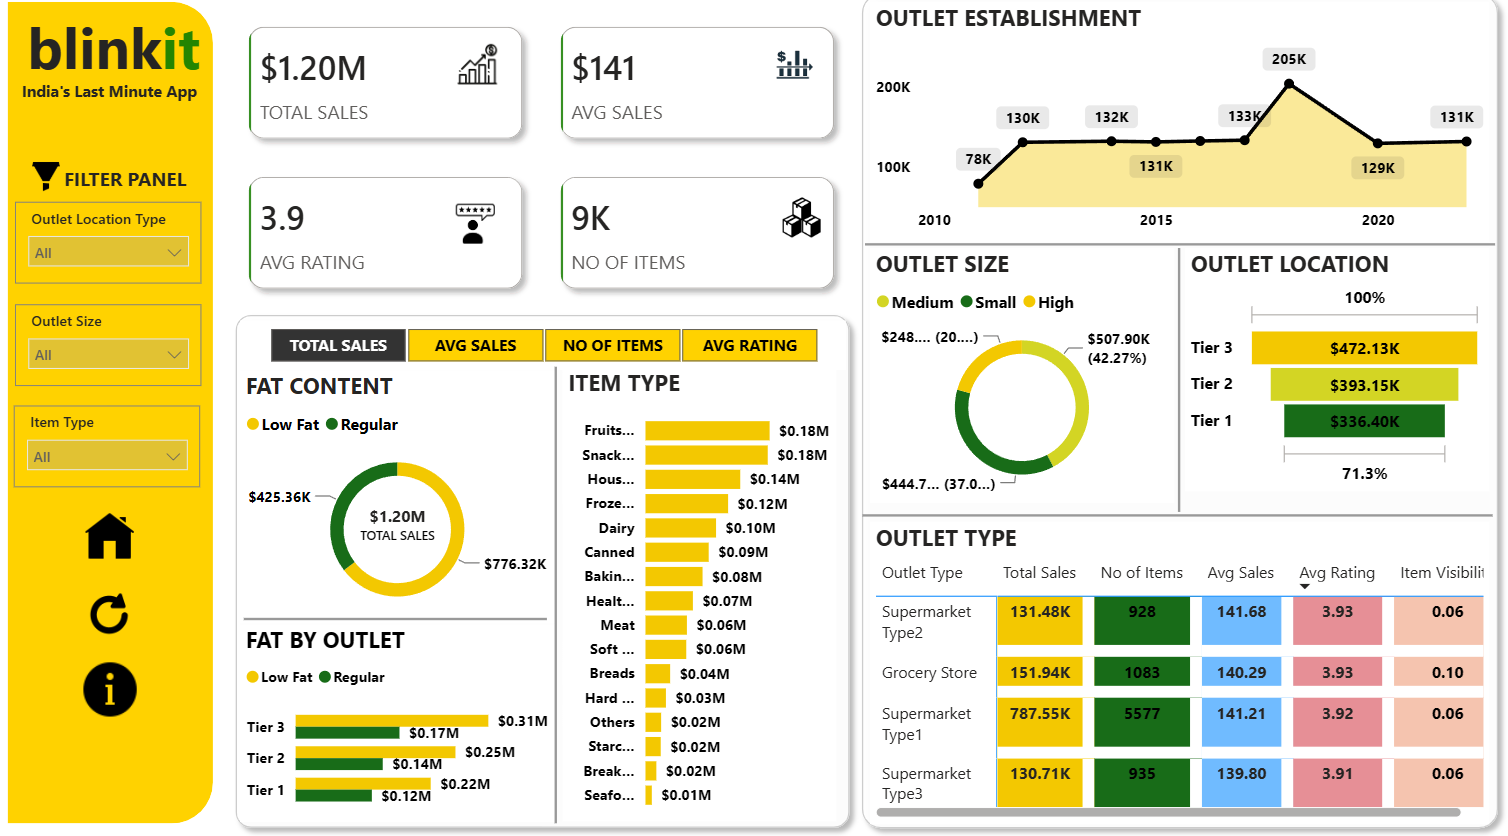

Layout of this report page (visuals, bound fields, positions):
{"tool":"powerbi","page":{"name":"Page 1","canvas":[1280,720],"ordinal":0},"visuals":[{"type":"shape","box":[10.1,15.8,172.8,691.2],"z":0},{"type":"textbox","box":[15.8,15.8,168.5,77.8],"z":1000},{"type":"textbox","box":[8.6,76.3,175.7,33.1],"z":2000},{"type":"shape","box":[193,270.7,534.2,449.3],"z":3000},{"type":"slicer","fields":{"Values":["Matrix.Matrix"]},"box":[205.9,283.7,509.8,41.8],"z":4000},{"type":"donutChart","title":"FAT CONTENT","fields":{"Y":["Table1.TOTAL SALES"],"Category":["Table1.Item Fat Content"]},"box":[205.9,325.4,265,213.1],"z":5000},{"type":"clusteredBarChart","title":"ITEM TYPE","fields":{"Y":["Table1.TOTAL SALES"],"Category":["Table1.Item Type"]},"box":[477,323,230,382],"z":6000},{"type":"clusteredBarChart","title":"FAT BY OUTLET","fields":{"Y":["Table1.TOTAL SALES"],"Series":["Table1.Item Fat Content"],"Category":["Table1.Outlet Location Type"]},"box":[206,539,265,166],"z":7000},{"type":"cardVisual","fields":{"Data":["Table1.TOTAL SALES"]},"box":[298.1,432,80.6,46.1],"z":8000},{"type":"shape","box":[720,0,553,720],"z":9000},{"type":"lineChart","title":"OUTLET ESTABLISHMENT","fields":{"Category":["Table1.Outlet Establishment Year"],"Y":["Sum(Table1.Sales)"]},"box":[736,16,521,202],"z":10000},{"type":"donutChart","title":"OUTLET SIZE","fields":{"Y":["Table1.TOTAL SALES"],"Category":["Table1.Outlet Size"]},"box":[736,223,256,214],"z":11000},{"type":"funnel","title":"OUTLET LOCATION","fields":{"Y":["Table1.TOTAL SALES"],"Category":["Table1.Outlet Location Type"]},"box":[1001,223,256,205],"z":12000},{"type":"pivotTable","title":"OUTLET TYPE","fields":{"Rows":["Table1.Outlet Type"],"Values":["Sum(Table1.Sales)","CountNonNull(Table1.Item Identifier)","Avg(Table1.Sales)","Avg(Table1.Rating)","Avg(Table1.Item Visibility)"]},"box":[736,453,521,254],"z":13000},{"type":"shape","box":[732,211,530,17],"z":14000},{"type":"shape","box":[730,440,530,16.7],"z":15000},{"type":"shape","box":[209,531,255,8],"z":16000},{"type":"shape","box":[464,323,16,384],"z":17000},{"type":"shape","box":[991,223,9,222],"z":18000},{"type":"slicer","fields":{"Values":["Table1.Outlet Location Type"]},"box":[17.3,184.3,157,69.1],"z":19000},{"type":"slicer","fields":{"Values":["Table1.Outlet Size"]},"box":[17.3,270.7,157,69.1],"z":20000},{"type":"slicer","fields":{"Values":["Table1.Item Type"]},"box":[15.8,355.7,157,69.1],"z":21000},{"type":"textbox","box":[45.8,148.3,126.7,31.7],"z":22000},{"type":"image","box":[21.7,142.5,41.7,39.2],"z":23000},{"type":"image","box":[70.6,439.2,51.8,53.3],"z":24000},{"type":"image","box":[64.8,502.6,61.9,57.6],"z":25000},{"type":"image","box":[64.8,564.5,63.4,59],"z":26000},{"type":"cardVisual","fields":{"Data":["Table1.TOTAL SALES","Table1.AVG SALES","Table1.AVG RATING","Table1.NO OF ITEMS"]},"box":[196.2,20.2,527,255],"z":27000},{"type":"image","box":[375.1,43.3,60.6,50.5],"z":28000},{"type":"image","box":[379.4,180.3,49.1,43.3],"z":29000},{"type":"image","box":[656.5,176,44.7,43.3],"z":30000},{"type":"image","box":[645.6,44.2,51.5,51.5],"z":31000}]}

Visuals, with their boxes in screenshot pixels (x1, y1, x2, y2), scaled from the page's 1280x720 canvas onto the 1508x836 screenshot:
shape: (12, 18, 215, 821)
textbox: (19, 18, 217, 109)
textbox: (10, 89, 217, 127)
shape: (227, 314, 857, 835)
slicer - Matrix.Matrix: (243, 329, 843, 378)
"FAT CONTENT" donutChart: (243, 378, 555, 625)
"ITEM TYPE" clusteredBarChart: (562, 375, 833, 819)
"FAT BY OUTLET" clusteredBarChart: (243, 626, 555, 819)
cardVisual - Table1.TOTAL SALES: (351, 502, 446, 555)
shape: (848, 0, 1500, 835)
"OUTLET ESTABLISHMENT" lineChart: (867, 19, 1481, 253)
"OUTLET SIZE" donutChart: (867, 259, 1169, 507)
"OUTLET LOCATION" funnel: (1179, 259, 1481, 497)
"OUTLET TYPE" pivotTable: (867, 526, 1481, 821)
shape: (862, 245, 1487, 265)
shape: (860, 511, 1484, 530)
shape: (246, 617, 547, 626)
shape: (547, 375, 566, 821)
shape: (1168, 259, 1178, 517)
slicer - Table1.Outlet Location Type: (20, 214, 205, 294)
slicer - Table1.Outlet Size: (20, 314, 205, 395)
slicer - Table1.Item Type: (19, 413, 204, 493)
textbox: (54, 172, 203, 209)
image: (26, 165, 75, 211)
image: (83, 510, 144, 572)
image: (76, 584, 149, 650)
image: (76, 655, 151, 724)
cardVisual - Table1.TOTAL SALES x Table1.AVG SALES: (231, 23, 852, 320)
image: (442, 50, 513, 109)
image: (447, 209, 505, 260)
image: (773, 204, 826, 255)
image: (761, 51, 821, 111)
